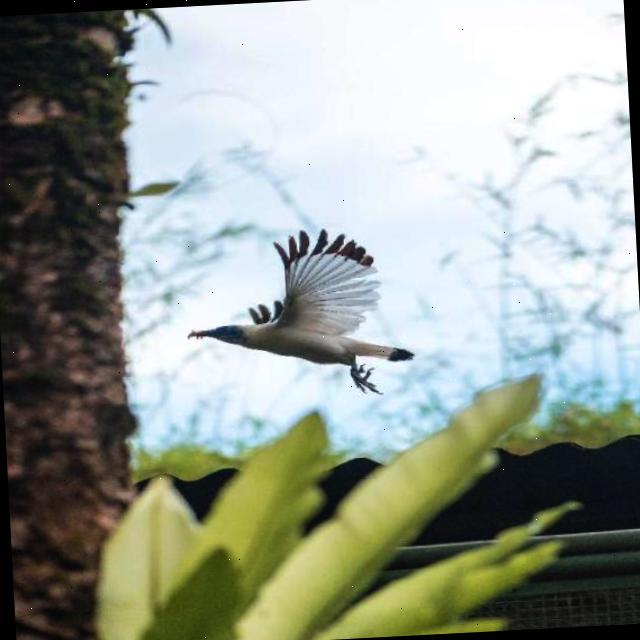Jalak Bali: (136, 209, 482, 429)
